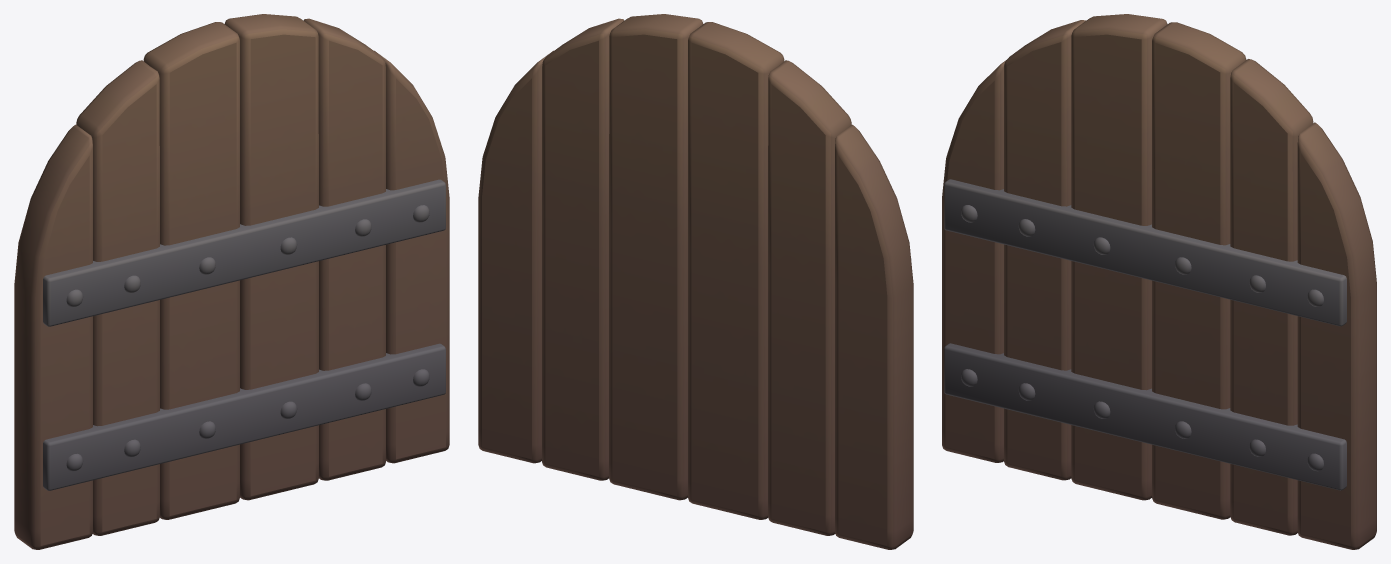
The model's file is gateDoor_0.fbx.
The picture shows the model from 3 angles, left to right: view 1: azimuth 30°, elevation 25°; view 2: azimuth 150°, elevation 25°; view 3: azimuth 330°, elevation 25°; orthographic projection.
Parts seen in each view (by area): view 1: gate_hurt0; view 2: gate_hurt0; view 3: gate_hurt0.
Part boxes in pixels (x1,y1,x2,y2): gate_hurt0: (14, 14, 449, 549); gate_hurt0: (478, 14, 913, 549); gate_hurt0: (942, 14, 1376, 549).
Size of the model in its own units: 174 by 187 by 22.06.
